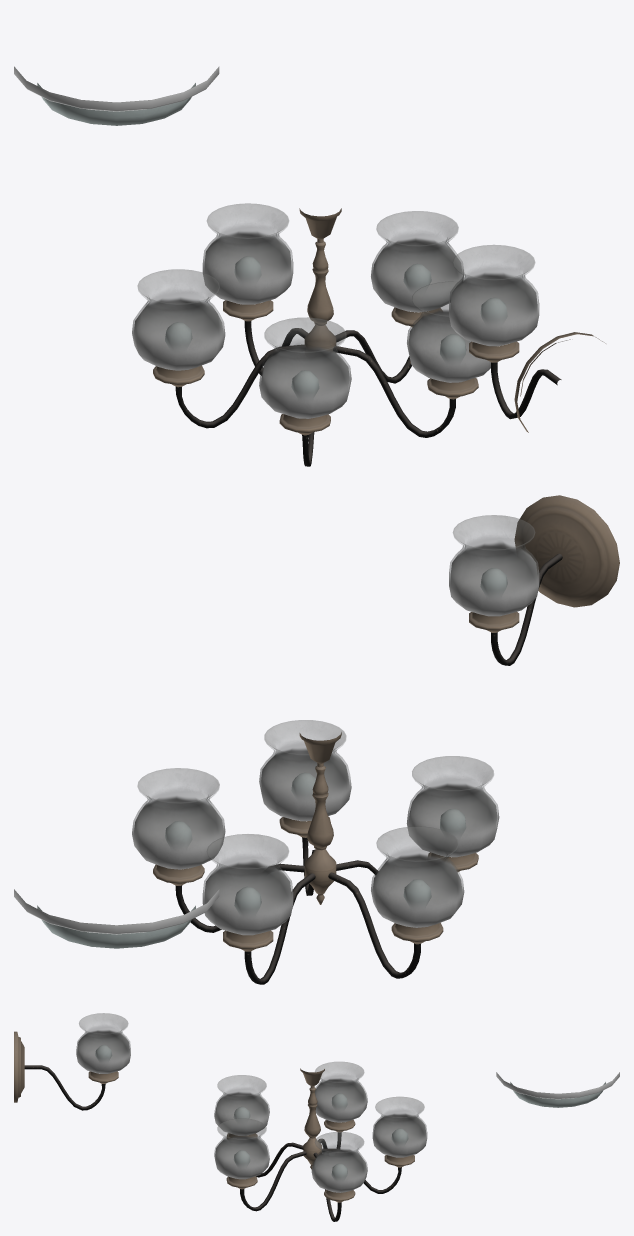
File: old_lamps.glb
3 views of the same model, one above another, from view 1: azimuth 30°, elevation 25°; view 2: azimuth 150°, elevation 25°; view 3: azimuth 270°, elevation 25° (orthographic). The views are drawn at different scales.
Parts seen in each view (by area): view 1: lamp_1_lamps_0, lamp_2_lamps_0, lamp_3_lamps_0; view 2: lamp_1_lamps_0, lamp_2_lamps_0, lamp_3_lamps_0; view 3: lamp_1_lamps_0, lamp_2_lamps_0, lamp_3_lamps_0.
Boxes of the visible parts, x1,y1,x2,y2 form: lamp_1_lamps_0: [132, 203, 498, 466]; lamp_2_lamps_0: [449, 245, 605, 432]; lamp_3_lamps_0: [14, 66, 219, 125]; lamp_1_lamps_0: [132, 720, 499, 984]; lamp_2_lamps_0: [449, 495, 619, 665]; lamp_3_lamps_0: [14, 889, 219, 948]; lamp_1_lamps_0: [214, 1061, 427, 1221]; lamp_2_lamps_0: [14, 1013, 130, 1110]; lamp_3_lamps_0: [496, 1072, 619, 1107].
Size of the model in its own units: 25.68 by 21.62 by 69.95.
Materials: 1 (1 with a texture image).
